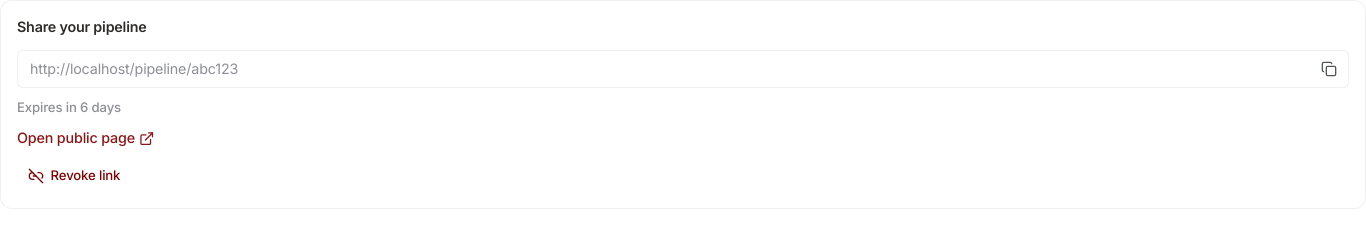
SharePipeline › should show copied state after copy button is clicked
Click the button named "copy share link".
click(1329, 69)  # box [1315,54,1344,84]
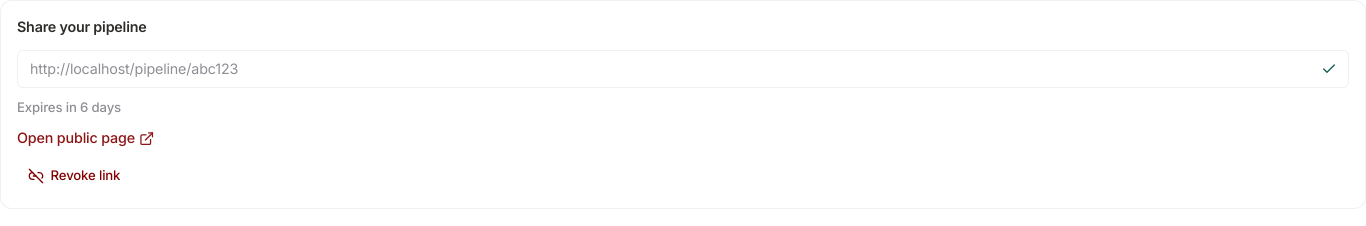
Now the button named "link copied" is shown, box [1315,54,1344,84]
